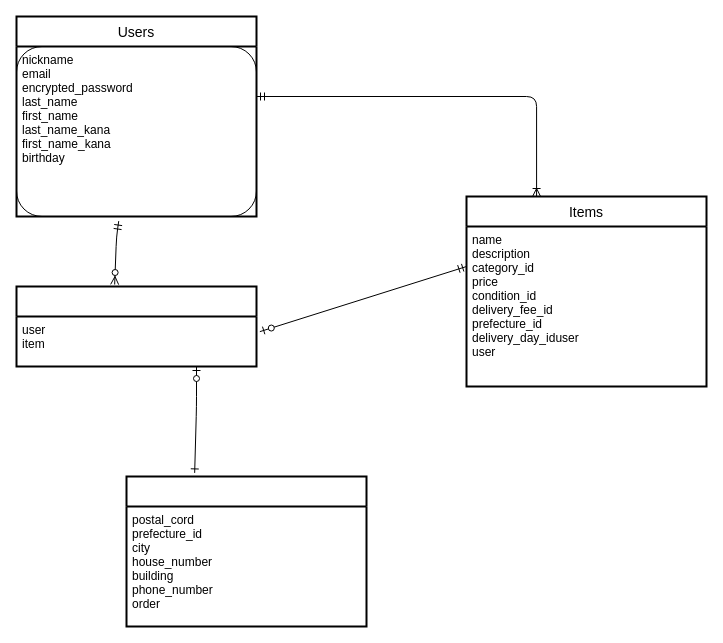
The diagram is 723 pixels wide and 643 high, and some of its shapes have lost their labels. Here are the shapes that lost their labels. From the top down, the box of each, then its label:
(15, 285, 257, 367): Orders
(125, 475, 367, 627): Addresses
